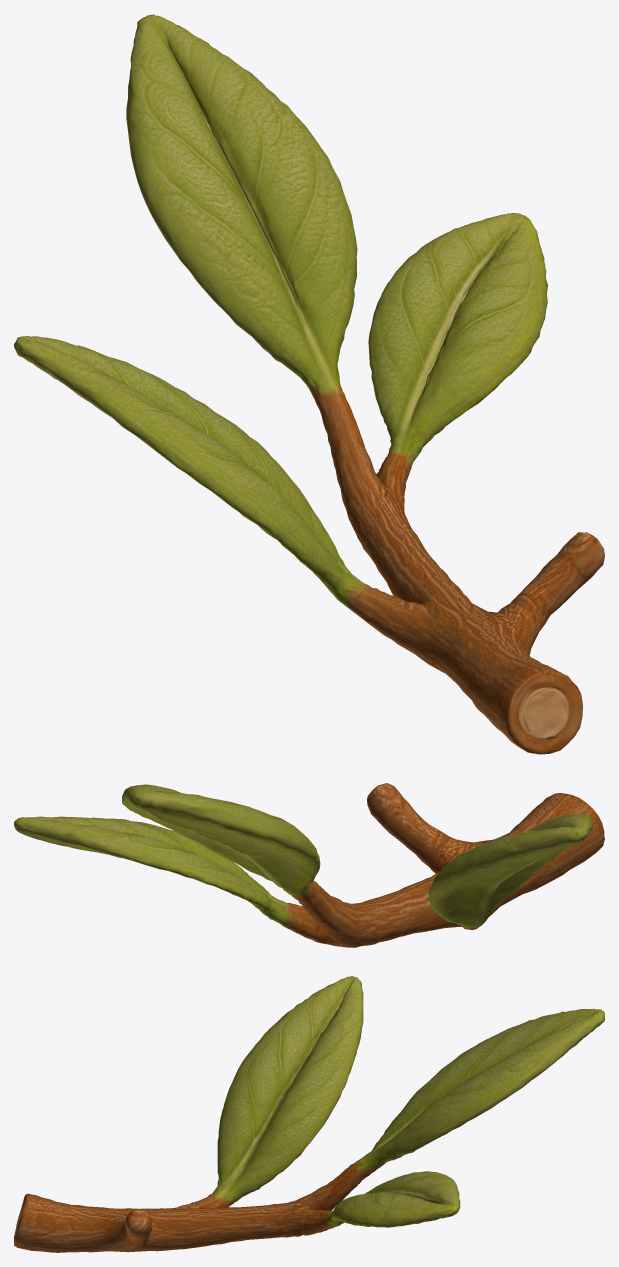
Rendered from mem_ac_branch.fbx.
3 renders of one model, top to bottom at view 1: azimuth 30°, elevation 25°; view 2: azimuth 150°, elevation 25°; view 3: azimuth 270°, elevation 25°, orthographic. The views are drawn at different scales.
Parts seen in each view (by area): view 1: tripo_node_673f5714-26c5-424e-b996-5ad6ef31b262; view 2: tripo_node_673f5714-26c5-424e-b996-5ad6ef31b262; view 3: tripo_node_673f5714-26c5-424e-b996-5ad6ef31b262.
Boxes of the visible parts, left/top/right/bottom form: tripo_node_673f5714-26c5-424e-b996-5ad6ef31b262: left=14, top=14, right=604, bottom=754; tripo_node_673f5714-26c5-424e-b996-5ad6ef31b262: left=14, top=783, right=604, bottom=947; tripo_node_673f5714-26c5-424e-b996-5ad6ef31b262: left=14, top=976, right=604, bottom=1252.
Bounding box in the file's own units: 0.7402 × 0.4746 × 0.998.
1 material, 1 textured.
